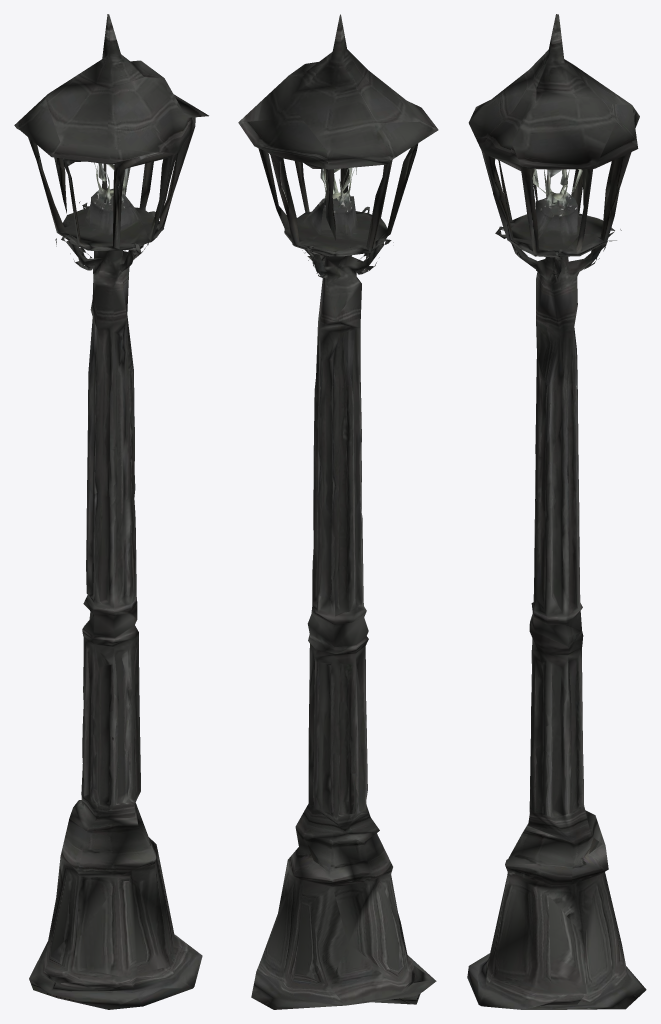
The model's file is lamppost3_lod1.glb.
The picture shows the model from 3 angles, left to right: view 1: azimuth 30°, elevation 25°; view 2: azimuth 150°, elevation 25°; view 3: azimuth 270°, elevation 25°; orthographic projection.
Visible parts, largest first — view 1: tripo_node_581adf6e-751c-41fa-b681-661e507ea7ff; view 2: tripo_node_581adf6e-751c-41fa-b681-661e507ea7ff; view 3: tripo_node_581adf6e-751c-41fa-b681-661e507ea7ff.
Boxes of the visible parts, bbox=[...] form: tripo_node_581adf6e-751c-41fa-b681-661e507ea7ff: bbox=[14, 14, 208, 1009]; tripo_node_581adf6e-751c-41fa-b681-661e507ea7ff: bbox=[238, 14, 438, 1009]; tripo_node_581adf6e-751c-41fa-b681-661e507ea7ff: bbox=[467, 14, 646, 1009].
Bounding box in the file's own units: 0.4394 × 2.5 × 0.4196.
Materials: 1 (1 with a texture image).
